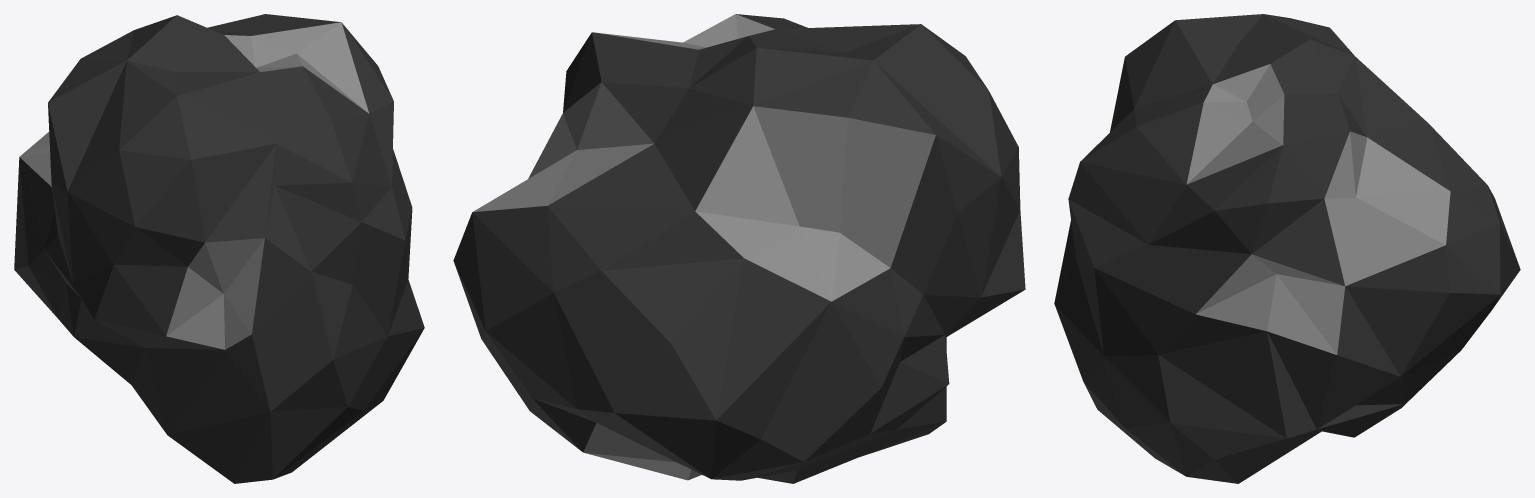
Rendered from Asteroid_1.fbx.
3 views of the same model, side by side, from view 1: azimuth 30°, elevation 25°; view 2: azimuth 150°, elevation 25°; view 3: azimuth 270°, elevation 25° (orthographic). The views are drawn at different scales.
Visible parts, largest first — view 1: Asteroid_1; view 2: Asteroid_1; view 3: Asteroid_1.
Part boxes in pixels (left/top/right/bottom): Asteroid_1: left=14, top=14, right=424, bottom=483; Asteroid_1: left=453, top=14, right=1025, bottom=483; Asteroid_1: left=1054, top=14, right=1520, bottom=483.
Bounding box in the file's own units: 465 × 498 × 524.
